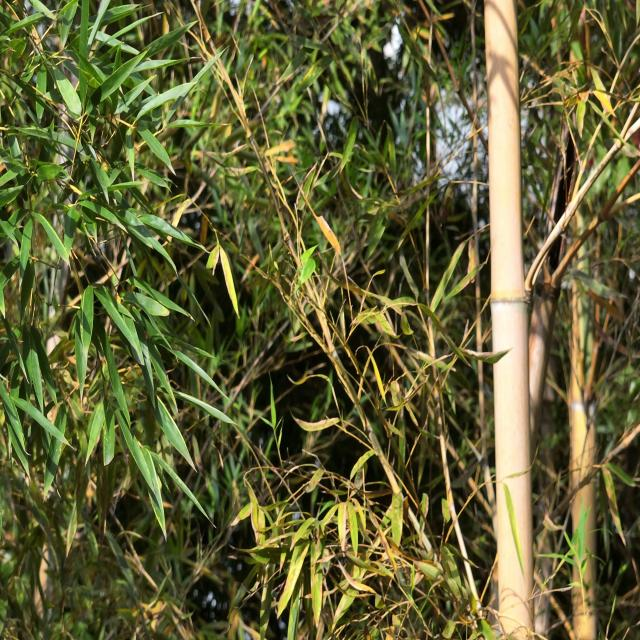Bamboo-shoots: (484, 0, 536, 640)
